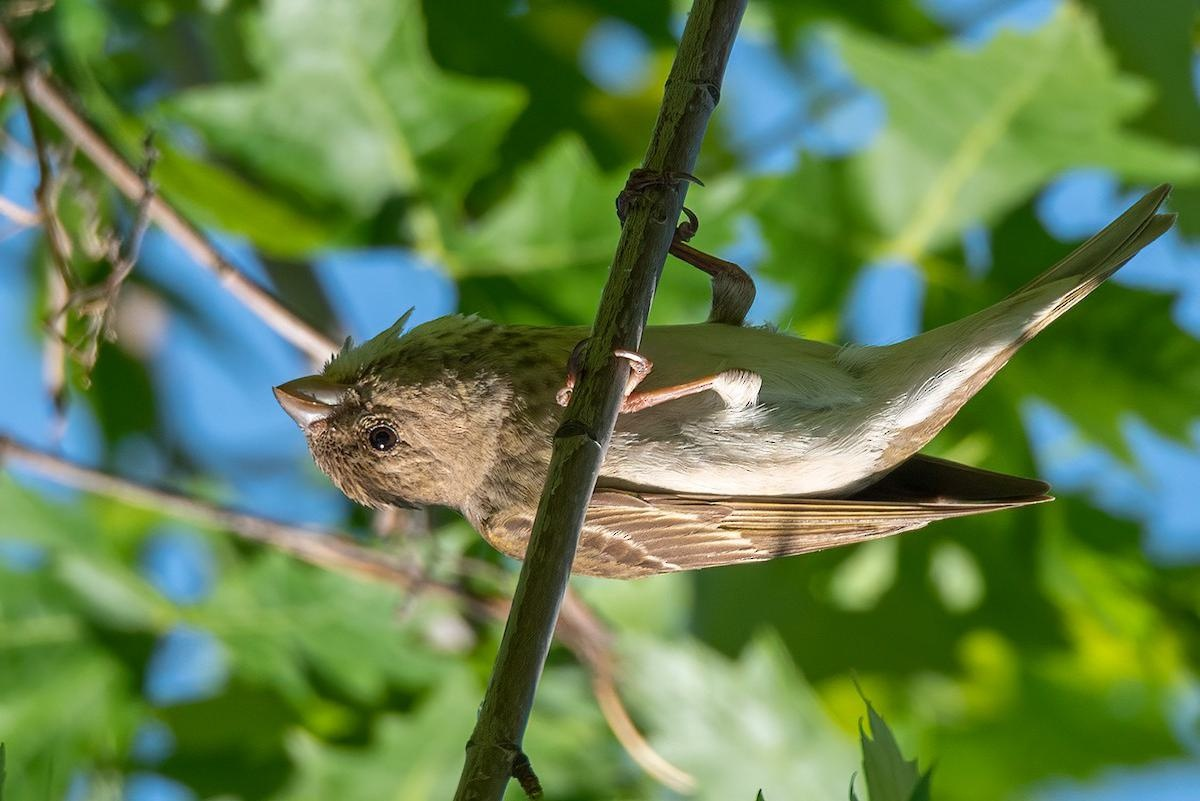rosefinch: (267, 305, 1044, 571)
